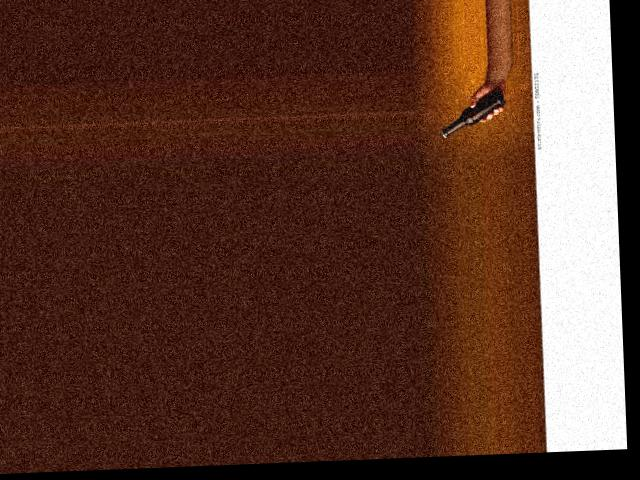beer: (438, 86, 507, 138)
